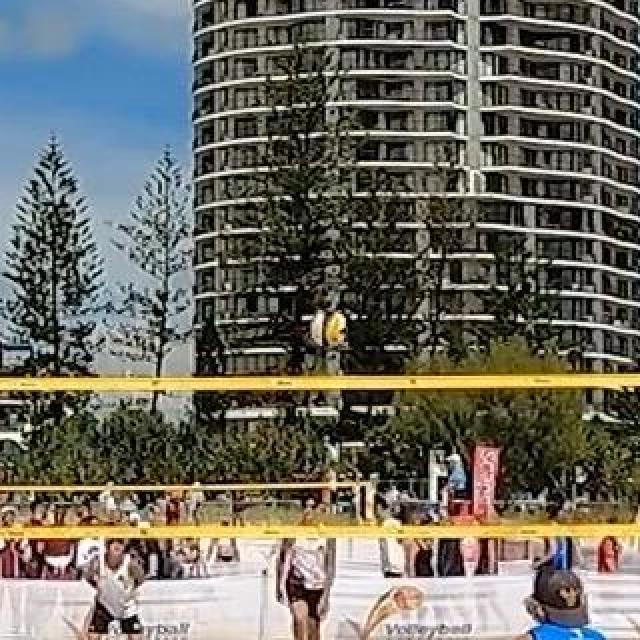volleyball: (312, 310, 348, 346)
